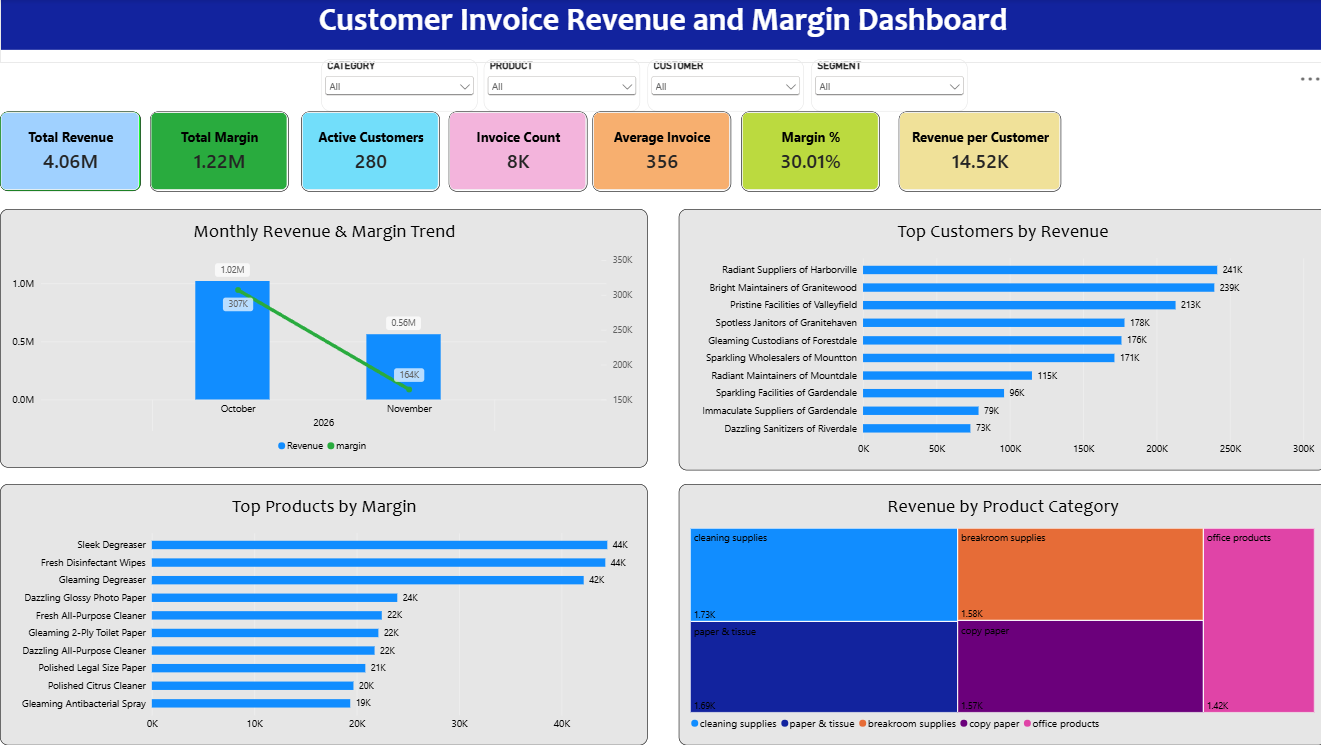

What the dashboard file says about the page in this screenshot:
{"tool":"powerbi","page":{"name":"Revenue and Margin","canvas":[1920,1080],"ordinal":0},"visuals":[{"type":"slicer","fields":{"Values":["Invoice.category"]},"box":[464.7,86.9,226.4,76.2],"z":0},{"type":"slicer","fields":{"Values":["Invoice.product"]},"box":[700,86.9,226.2,76],"z":1000},{"type":"slicer","fields":{"Values":["Invoice.customer"]},"box":[937,86.9,226.2,76],"z":2000},{"type":"slicer","fields":{"Values":["Invoice.segment"]},"box":[1174.1,86.9,226.2,76],"z":3000},{"type":"clusteredBarChart","title":"Top Products by Margin","fields":{"Category":["Invoice.product"],"Y":["Sum(Invoice.margin)"]},"box":[0,702.1,937.4,378.2],"z":4000},{"type":"clusteredBarChart","title":"Top Customers by Revenue","fields":{"Category":["Invoice.customer"],"Y":["Sum(Invoice.revenue)"]},"box":[982.6,304,937.4,378.2],"z":5000},{"type":"treemap","title":"Revenue by Product Category","fields":{"Group":["Invoice.category"],"Values":["CountNonNull(Invoice.segment)"]},"box":[982.6,702.1,937.4,378.2],"z":6000},{"type":"textbox","title":"Customer Invoice Revenue and Margin Dashboard","box":[0,0,1920.1,92.3],"z":7000},{"type":"cardVisual","title":"Margin","fields":{"Data":["FORMULA.Margin"]},"box":[217.2,162.9,200.9,115.8],"z":8000},{"type":"lineClusteredColumnComboChart","title":"Monthly Revenue & Margin Trend","fields":{"Category":["Invoice.order_date.Variation.Date Hierarchy.Year","Invoice.order_date.Variation.Date Hierarchy.Month"],"Y":["Sum(Invoice.revenue)"],"Y2":["Sum(Invoice.margin)"]},"box":[0,304,937.4,374.6],"z":10000},{"type":"cardVisual","title":"Revenue","fields":{"Data":["FORMULA.Revenue"]},"box":[0,162.6,203.8,115.3],"z":12000},{"type":"cardVisual","title":"Margin","fields":{"Data":["FORMULA.Customer"]},"box":[436.4,162.6,200.9,115.8],"z":13000},{"type":"cardVisual","title":"Margin","fields":{"Data":["FORMULA.Invoice"]},"box":[650.4,162.6,200.9,115.8],"z":14000},{"type":"cardVisual","title":"Margin","fields":{"Data":["FORMULA.Avg Invoice Cost"]},"box":[858.3,162.6,200.9,115.8],"z":15000},{"type":"cardVisual","title":"Margin","fields":{"Data":["FORMULA.Margin %"]},"box":[1073.1,162.9,200.9,115.8],"z":15001},{"type":"cardVisual","title":"Margin","fields":{"Data":["FORMULA.Revenue per Customer"]},"box":[1301.1,162.9,235.3,115.8],"z":15002}]}

Visuals, with their boxes in screenshot pixels (x1, y1, x2, y2), scaled from the page's 1920x1080 canvas onto the 1321x745 screenshot:
slicer - Invoice.category: [320, 60, 475, 113]
slicer - Invoice.product: [482, 60, 637, 112]
slicer - Invoice.customer: [645, 60, 800, 112]
slicer - Invoice.segment: [808, 60, 963, 112]
"Top Products by Margin" clusteredBarChart: [0, 484, 645, 744]
"Top Customers by Revenue" clusteredBarChart: [676, 210, 1320, 471]
"Revenue by Product Category" treemap: [676, 484, 1320, 744]
"Customer Invoice Revenue and Margin Dashboard" textbox: [0, 0, 1320, 64]
"Margin" cardVisual: [149, 112, 288, 192]
"Monthly Revenue & Margin Trend" lineClusteredColumnComboChart: [0, 210, 645, 468]
"Revenue" cardVisual: [0, 112, 140, 192]
"Margin" cardVisual: [300, 112, 438, 192]
"Margin" cardVisual: [447, 112, 586, 192]
"Margin" cardVisual: [591, 112, 729, 192]
"Margin" cardVisual: [738, 112, 877, 192]
"Margin" cardVisual: [895, 112, 1057, 192]
